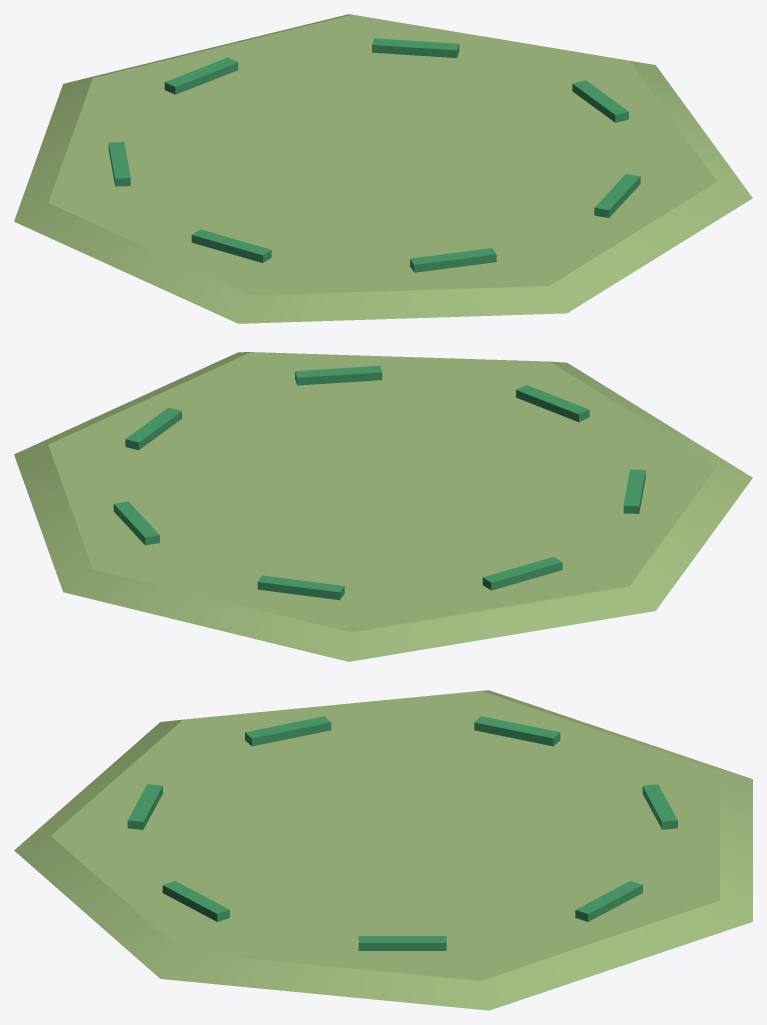
File: foundation.glb
3 views of the same model, one above another, from view 1: azimuth 30°, elevation 25°; view 2: azimuth 150°, elevation 25°; view 3: azimuth 270°, elevation 25° (orthographic). The views are drawn at different scales.
Visible parts, largest first — view 1: foundation_inlay, foundation_rune_6, foundation_rune_2, foundation_rune_3, foundation_rune_5, foundation_rune_0, foundation_rune_1, foundation_rune_4; view 2: foundation_inlay, foundation_rune_1, foundation_rune_5, foundation_rune_4, foundation_rune_2, foundation_rune_0, foundation_rune_6, foundation_rune_3; view 3: foundation_inlay, foundation_rune_4, foundation_rune_3, foundation_rune_0, foundation_rune_1, foundation_rune_6, foundation_rune_2, foundation_rune_5.
Boxes of the visible parts, x1,y1,x2,y2 form: foundation_inlay: (14,14,752,323); foundation_rune_6: (372,38,459,57); foundation_rune_2: (410,248,496,272); foundation_rune_3: (191,229,271,262); foundation_rune_5: (164,57,238,94); foundation_rune_0: (572,80,628,122); foundation_rune_1: (594,174,640,217); foundation_rune_4: (108,142,130,186); foundation_inlay: (14,352,752,661); foundation_rune_1: (295,365,382,385); foundation_rune_5: (257,575,344,600); foundation_rune_4: (482,557,562,590); foundation_rune_2: (516,385,589,421); foundation_rune_0: (125,407,181,450); foundation_rune_6: (113,501,159,545); foundation_rune_3: (623,469,645,513); foundation_inlay: (14,690,752,1010); foundation_rune_4: (474,716,560,746); foundation_rune_3: (245,716,331,746); foundation_rune_0: (358,936,446,950); foundation_rune_1: (162,881,229,921); foundation_rune_6: (575,881,642,921); foundation_rune_2: (127,784,162,829); foundation_rune_5: (642,784,677,829).
Size of what is drawn, in the model's own units: 10.33 by 0.34 by 10.08.
